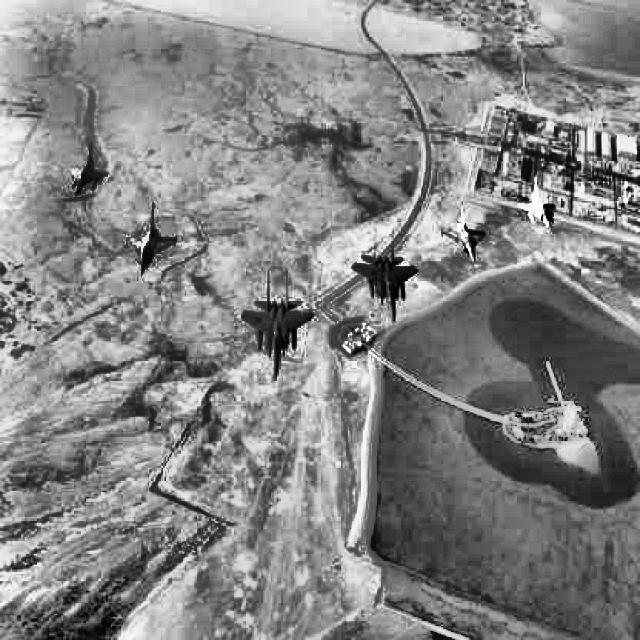F15: (240, 269, 315, 380), (352, 228, 419, 323)
Mirage2000: (517, 174, 555, 232), (70, 141, 108, 197)
Rafale: (125, 201, 178, 277), (440, 197, 488, 265)
